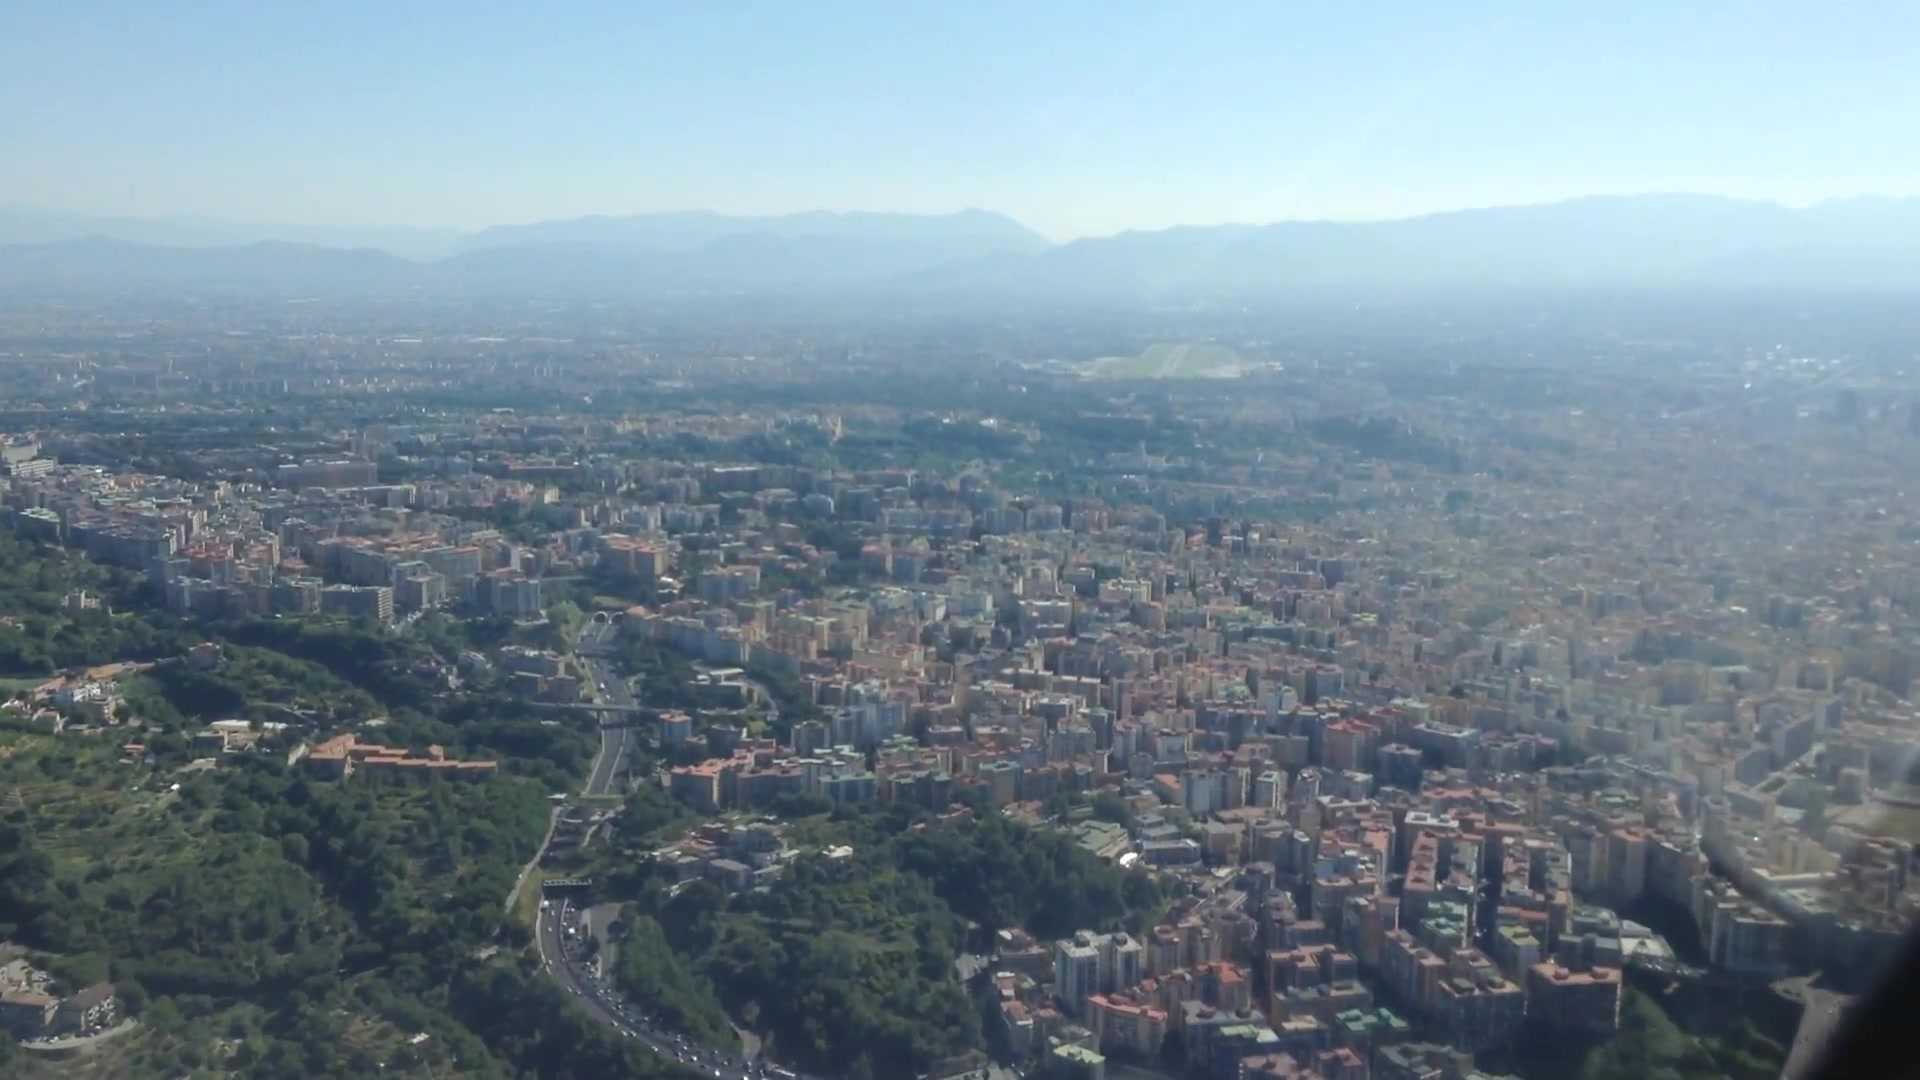runway: (1155, 343, 1189, 376)
